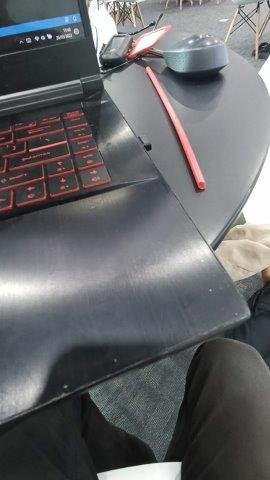sedotan: (146, 68, 205, 188)
